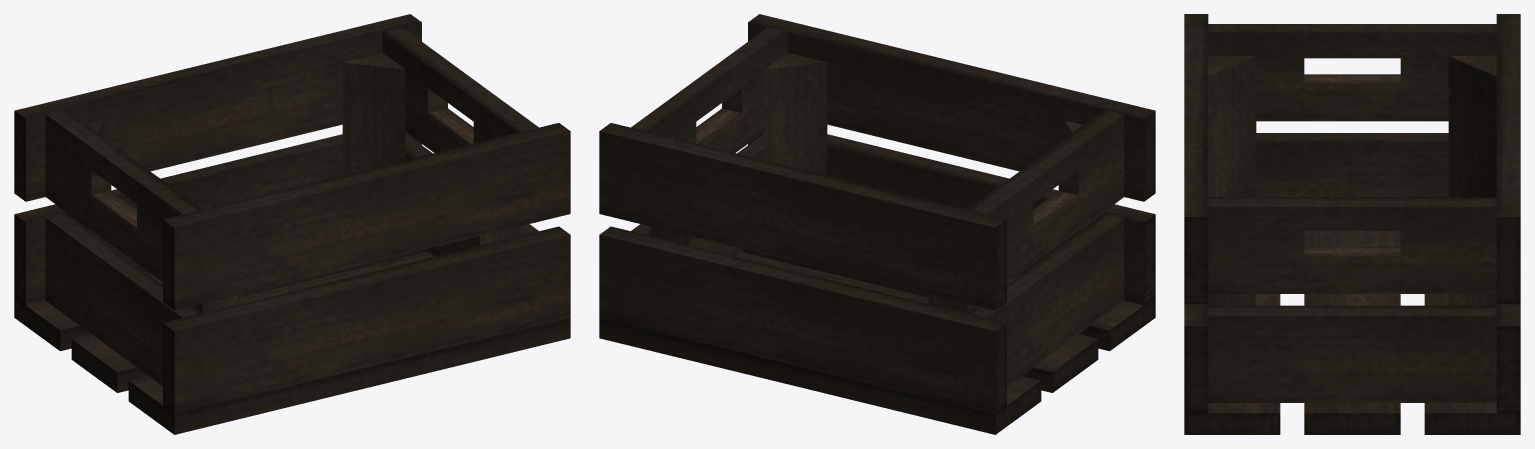
The model's file is wooden_crate_1.obj.
The picture shows the model from 3 angles, left to right: view 1: azimuth 30°, elevation 25°; view 2: azimuth 150°, elevation 25°; view 3: azimuth 270°, elevation 25°; orthographic projection. The views are drawn at different scales.
Visible parts, largest first — view 1: wooden_crate_1; view 2: wooden_crate_1; view 3: wooden_crate_1.
Part boxes in pixels (x1,y1,x2,y2): wooden_crate_1: (14, 14, 570, 434); wooden_crate_1: (599, 14, 1155, 434); wooden_crate_1: (1184, 14, 1520, 434).
Bounding box in the file's own units: 0.72 × 0.36 × 0.504.
